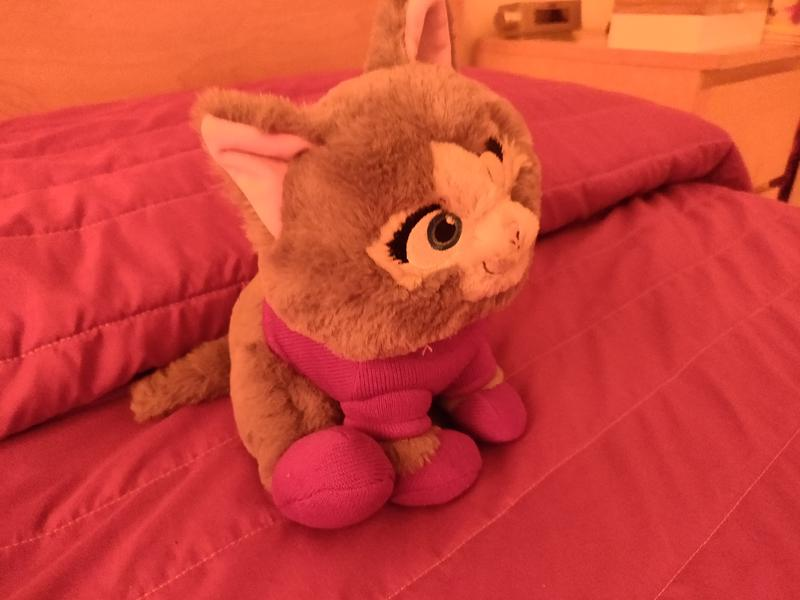kitten: (101, 1, 601, 539)
